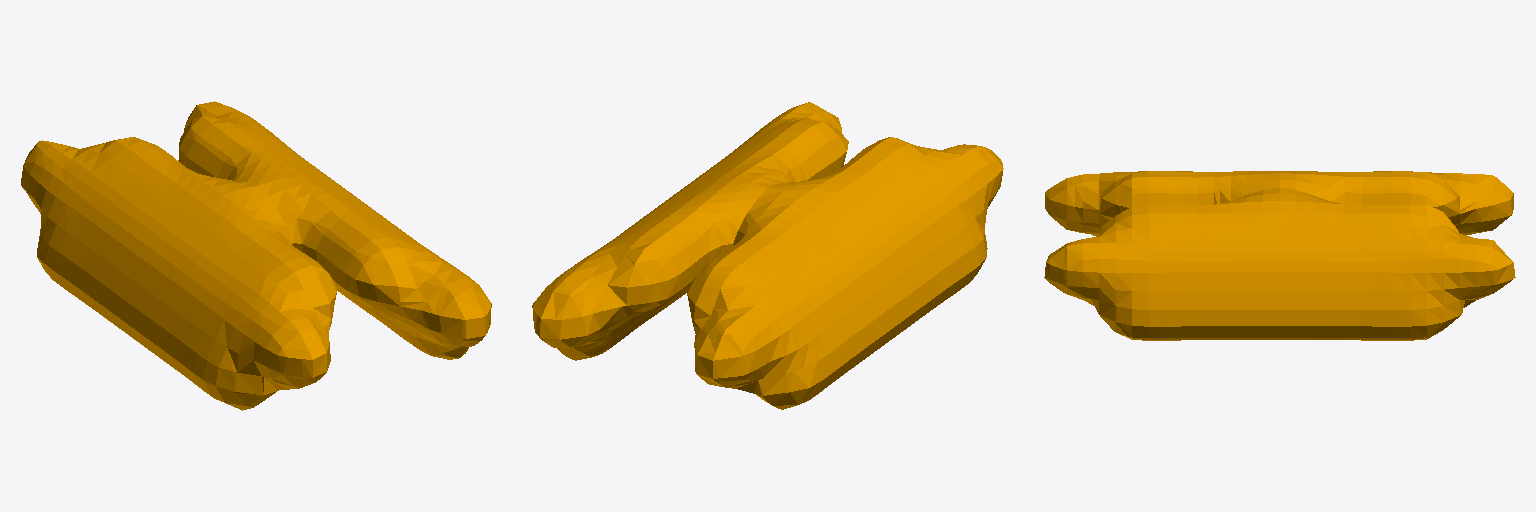
robot.urdf — U16_0:
<?xml version="1.0"?>
<robot name="U16_0">
  <link name="base_link">
    <visual>
      <geometry>
        <mesh filename="../../../../meshes/egad/train/U16_0.obj" />
      </geometry>
    </visual>
  </link>
</robot>

--- Render facts (derived) ---
3 views of the same robot in one strip: view 1: azimuth 30°, elevation 25°; view 2: azimuth 150°, elevation 25°; view 3: azimuth 270°, elevation 25° (orthographic).
Robot: U16_0 — 1 links, 0 joints (none); root link base_link; default pose: every joint at zero.
Visible links, largest first — view 1: base_link; view 2: base_link; view 3: base_link.
Link boxes in pixels (left/top/right/bottom): base_link: left=21, top=101, right=491, bottom=410; base_link: left=532, top=102, right=1003, bottom=409; base_link: left=1044, top=171, right=1515, bottom=340.
Size in the robot's own frame: 0.0406 by 0.075 by 0.0199 metres.
Meshes: 1 distinct files referenced, 1 mesh visuals loaded (1 OBJ).